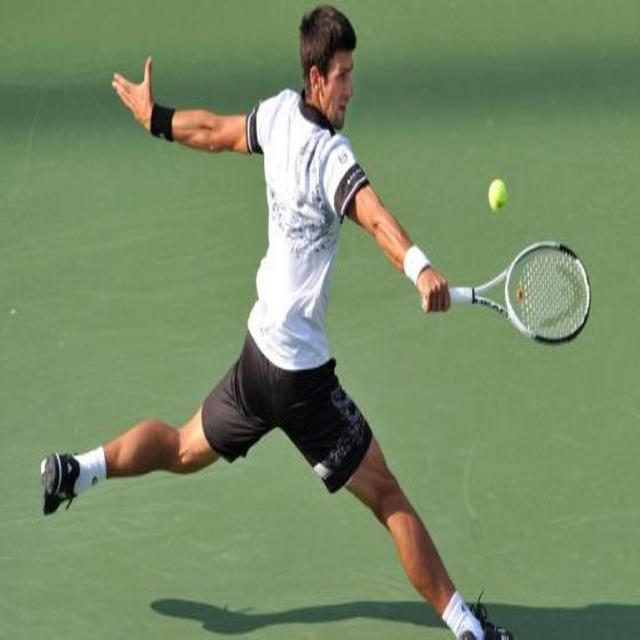nomask: (319, 50, 353, 127)
